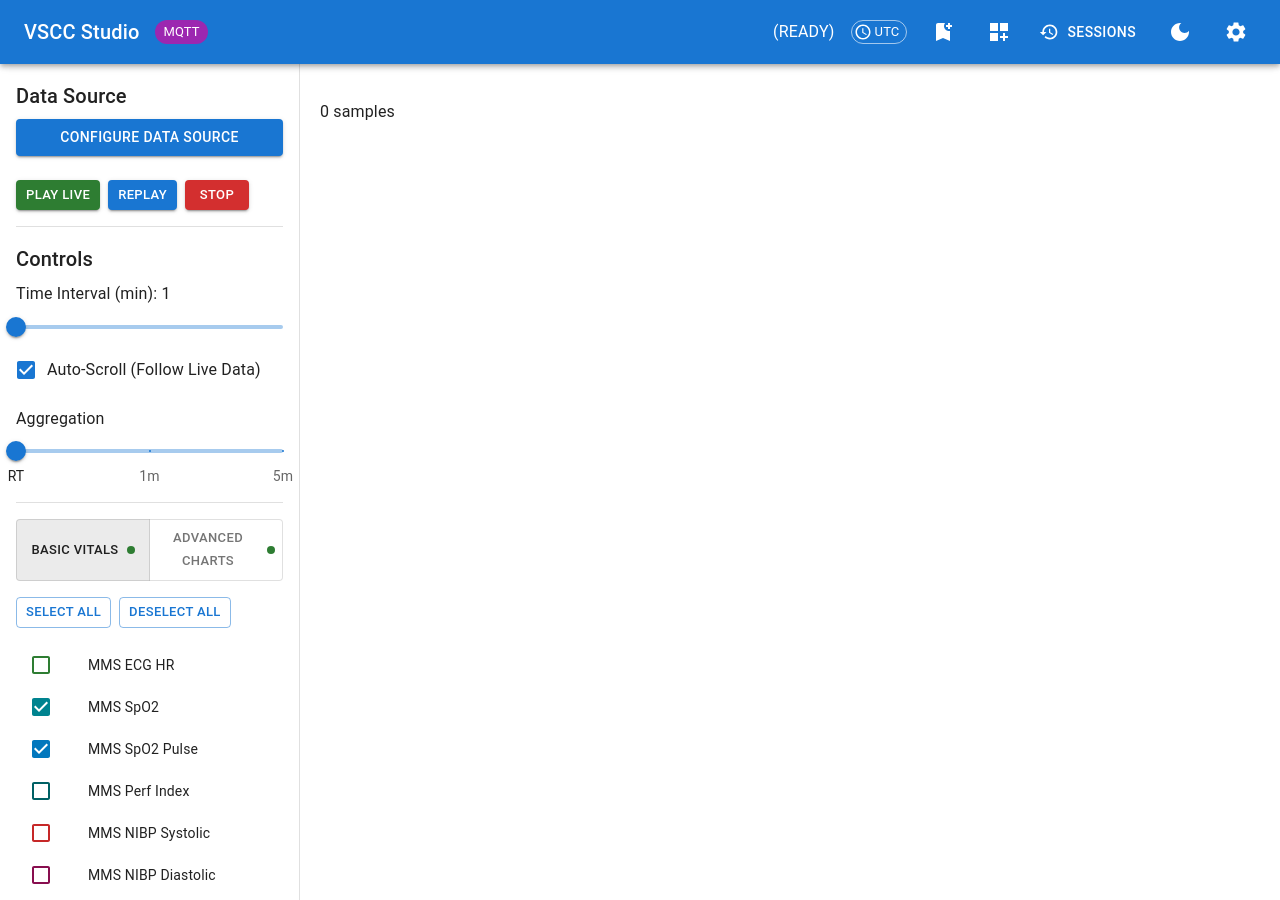
Test: add-on signals › marks the Basic Vitals tab when only an add-on series is selected
Click the button "Deselect All" at (175,612), box [119,597,231,628]
(page scrolled)
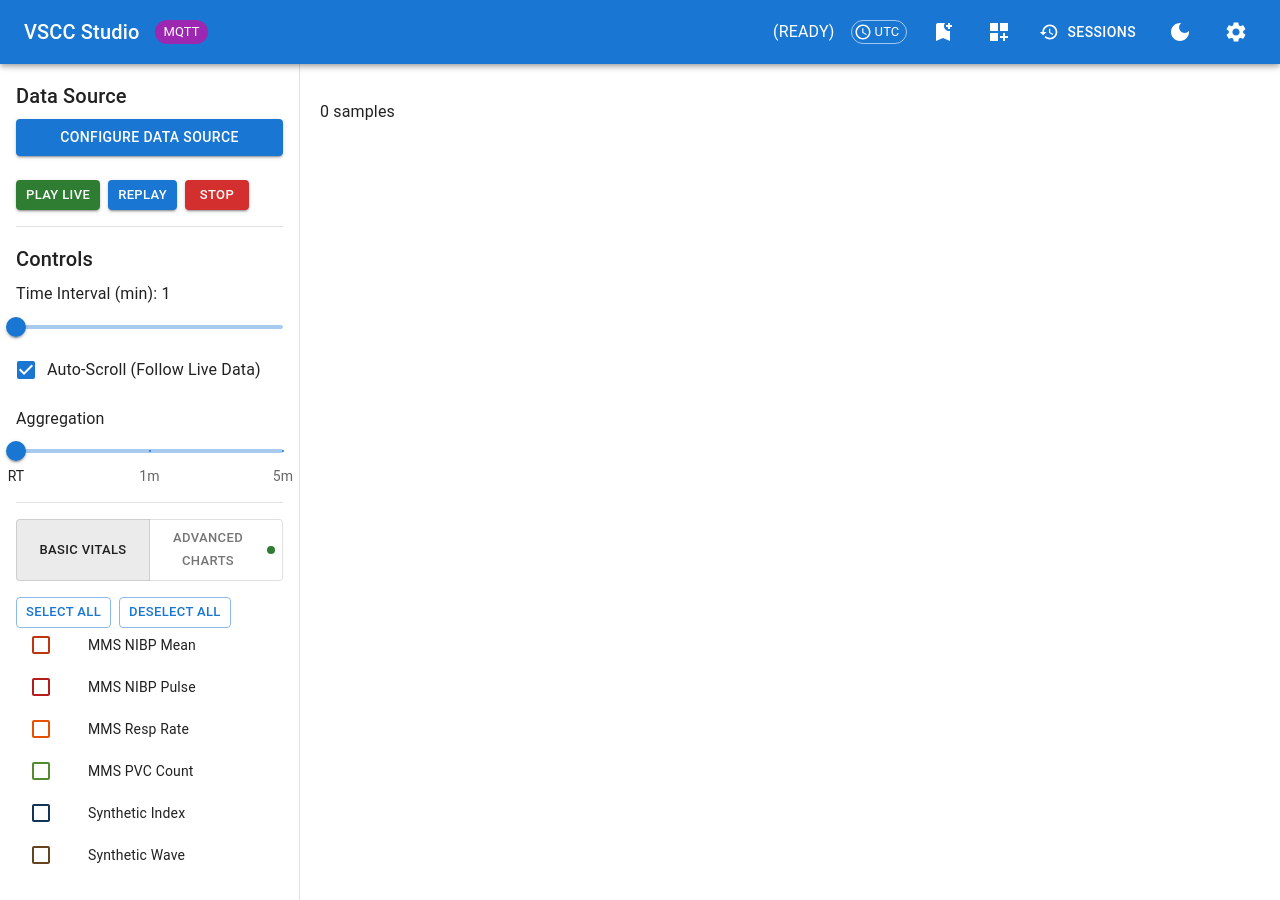
Expected: the button "Basic Vitals" is shown, [16,519,150,581]
Click the text "Synthetic Index" at (137,813), box [88,805,185,821]
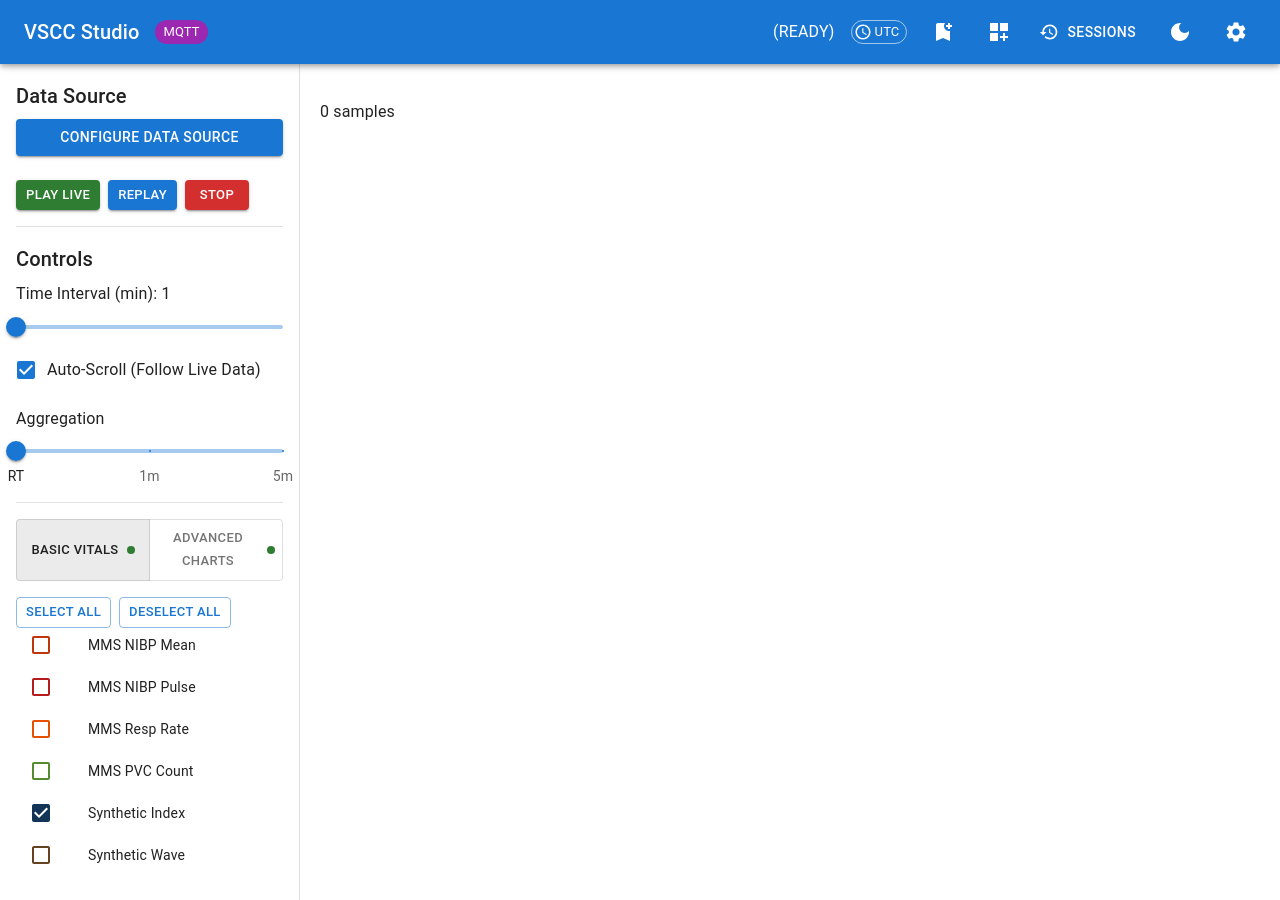
Expected: the button with aria-label "Basic Vitals, items selected" is shown, [16,519,150,581]
